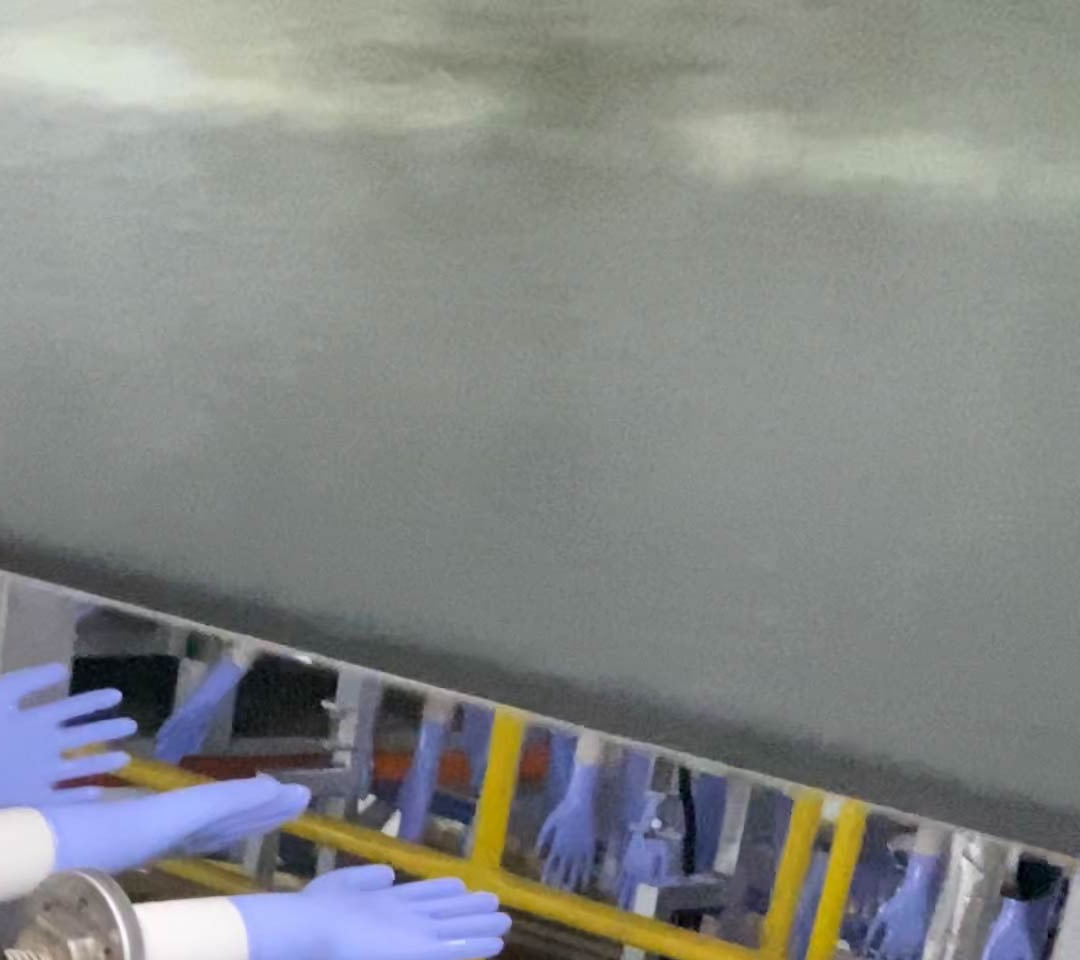glove: (32, 771, 310, 880), (243, 862, 511, 960), (1, 661, 136, 809), (150, 656, 243, 770), (529, 761, 603, 891)
